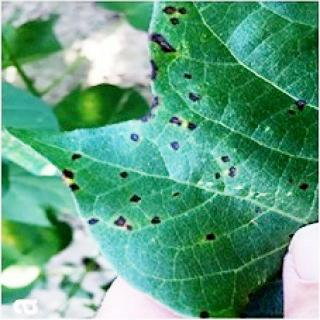blight: (65, 155, 173, 254), (135, 6, 219, 128)
